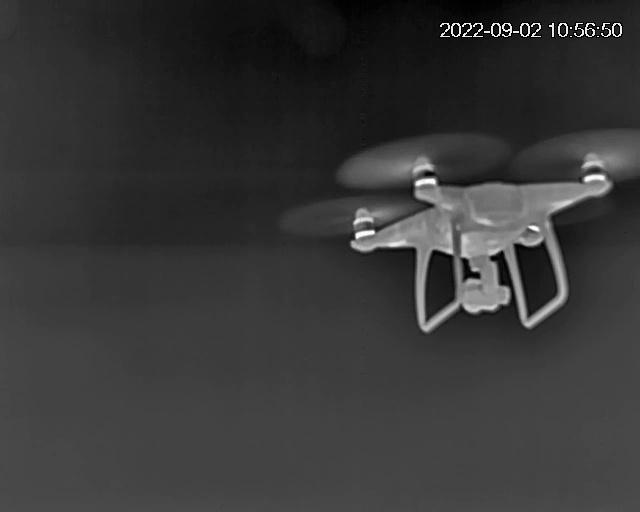DJI-Phantom: (347, 139, 632, 331)
